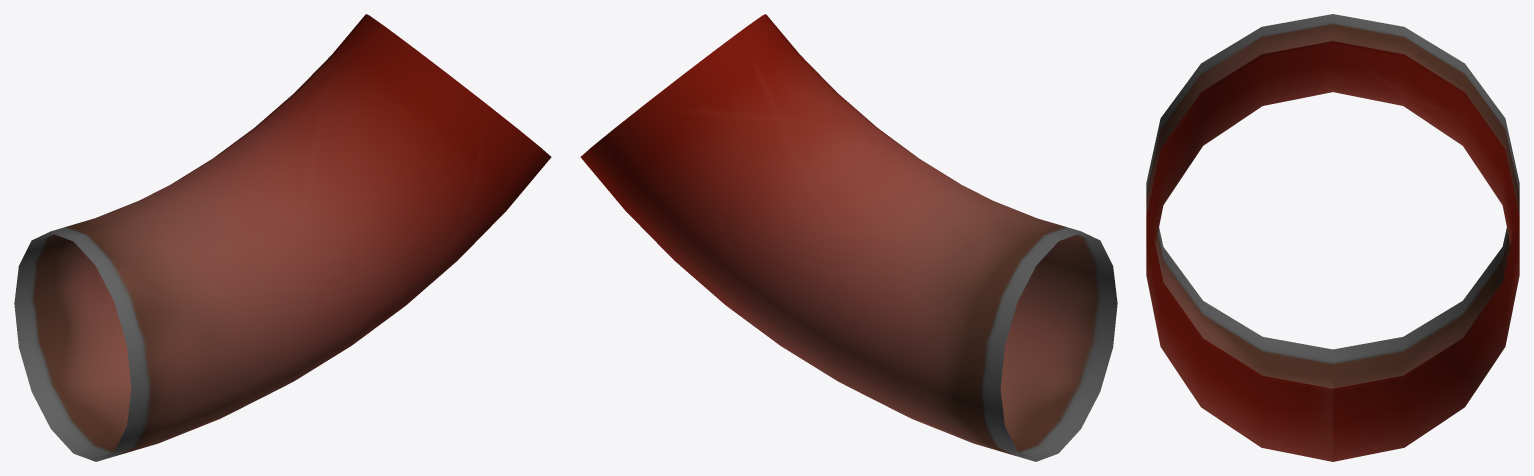
File: pipe01_crn_32a_hollow.fbx
The picture shows the model from 3 angles, left to right: view 1: azimuth 30°, elevation 25°; view 2: azimuth 150°, elevation 25°; view 3: azimuth 270°, elevation 25°; orthographic projection. The views are drawn at different scales.
Visible parts, largest first — view 1: pipe01_crn_32a_hollow; view 2: pipe01_crn_32a_hollow; view 3: pipe01_crn_32a_hollow.
Boxes of the visible parts, bbox=[...] form: pipe01_crn_32a_hollow: bbox=[14, 14, 551, 461]; pipe01_crn_32a_hollow: bbox=[580, 14, 1117, 461]; pipe01_crn_32a_hollow: bbox=[1146, 14, 1519, 461].
Size of the model in its own units: 26.87 by 19.62 by 12.
